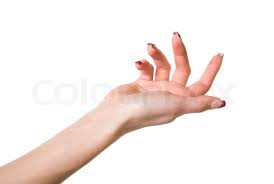hand: (99, 25, 254, 145)
